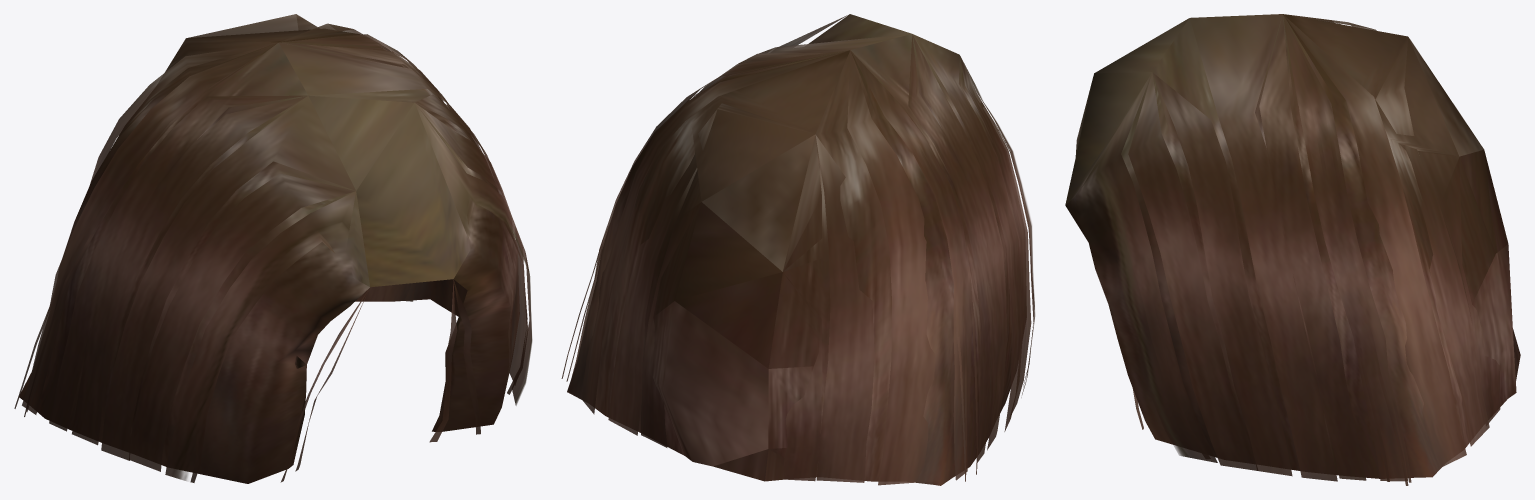
File: short.glb
3 views of the same model, side by side, from view 1: azimuth 30°, elevation 25°; view 2: azimuth 150°, elevation 25°; view 3: azimuth 270°, elevation 25° (orthographic). The views are drawn at different scales.
Visible parts, largest first — view 1: hair_short; view 2: hair_short; view 3: hair_short.
Part boxes in pixels (x1,y1,x2,y2): hair_short: (14,14,532,483); hair_short: (561,14,1035,485); hair_short: (1065,14,1520,485).
Size of the model in its own units: 0.2741 by 0.2184 by 0.2535.
1 material, 1 textured.
